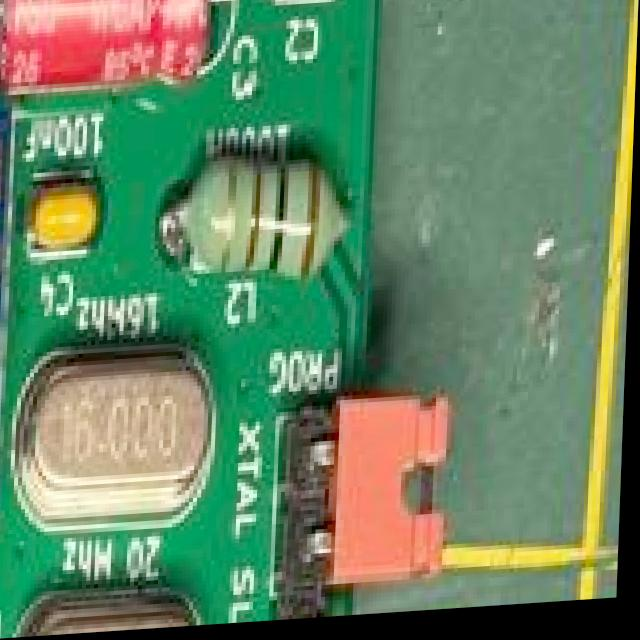capacitor: (0, 0, 224, 92), (33, 169, 95, 250), (272, 0, 356, 2)
clock: (19, 358, 217, 510), (17, 592, 206, 638)
connector: (269, 347, 465, 625)
resistor: (161, 127, 364, 303)
